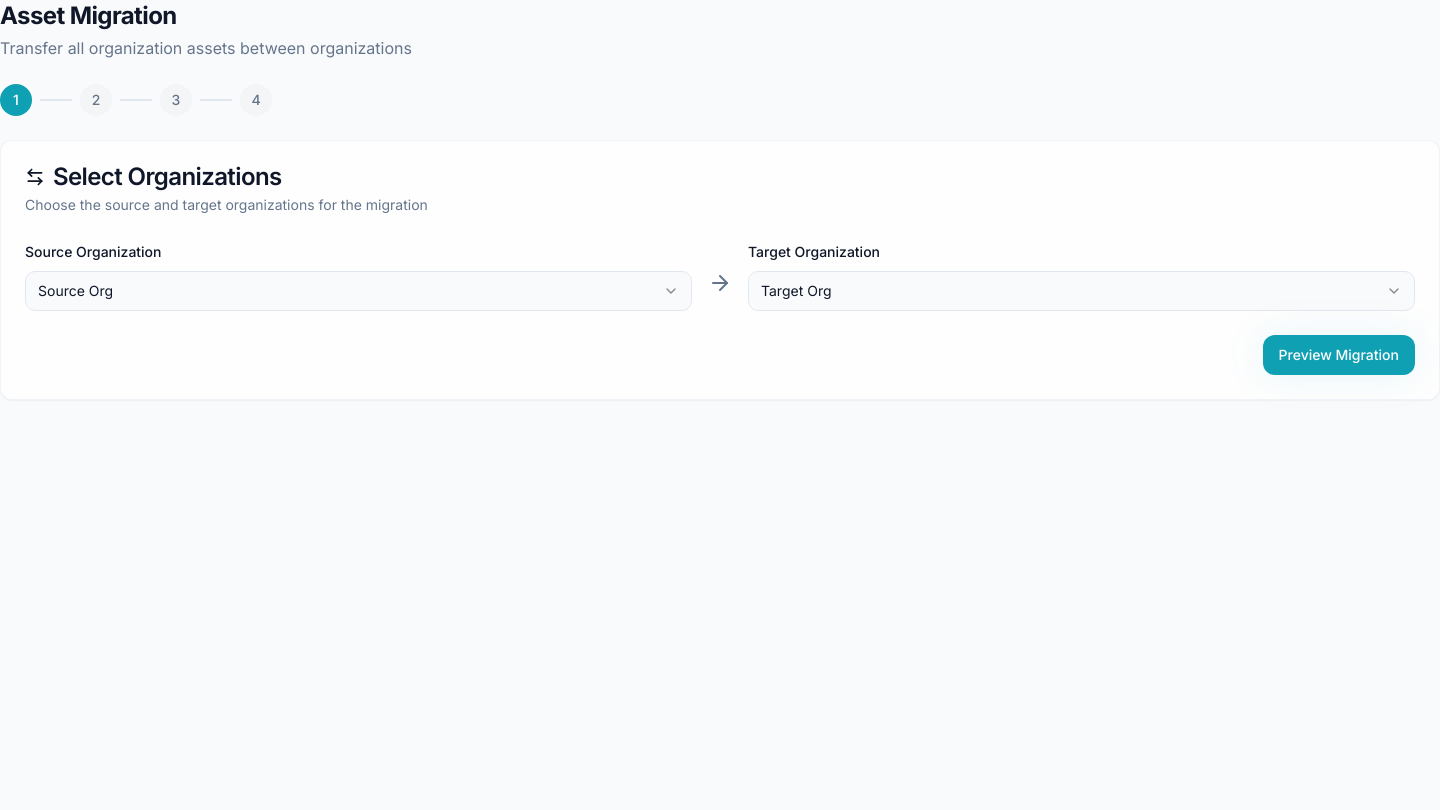
AssetMigration › blocks migration when dependent categories are selected without their parent records
Check: the heading "Asset Migration" is shown, box left=0, top=1, right=177, bottom=30
Click the button "Preview Migration" at [1339, 355], box left=1262, top=335, right=1415, bottom=375
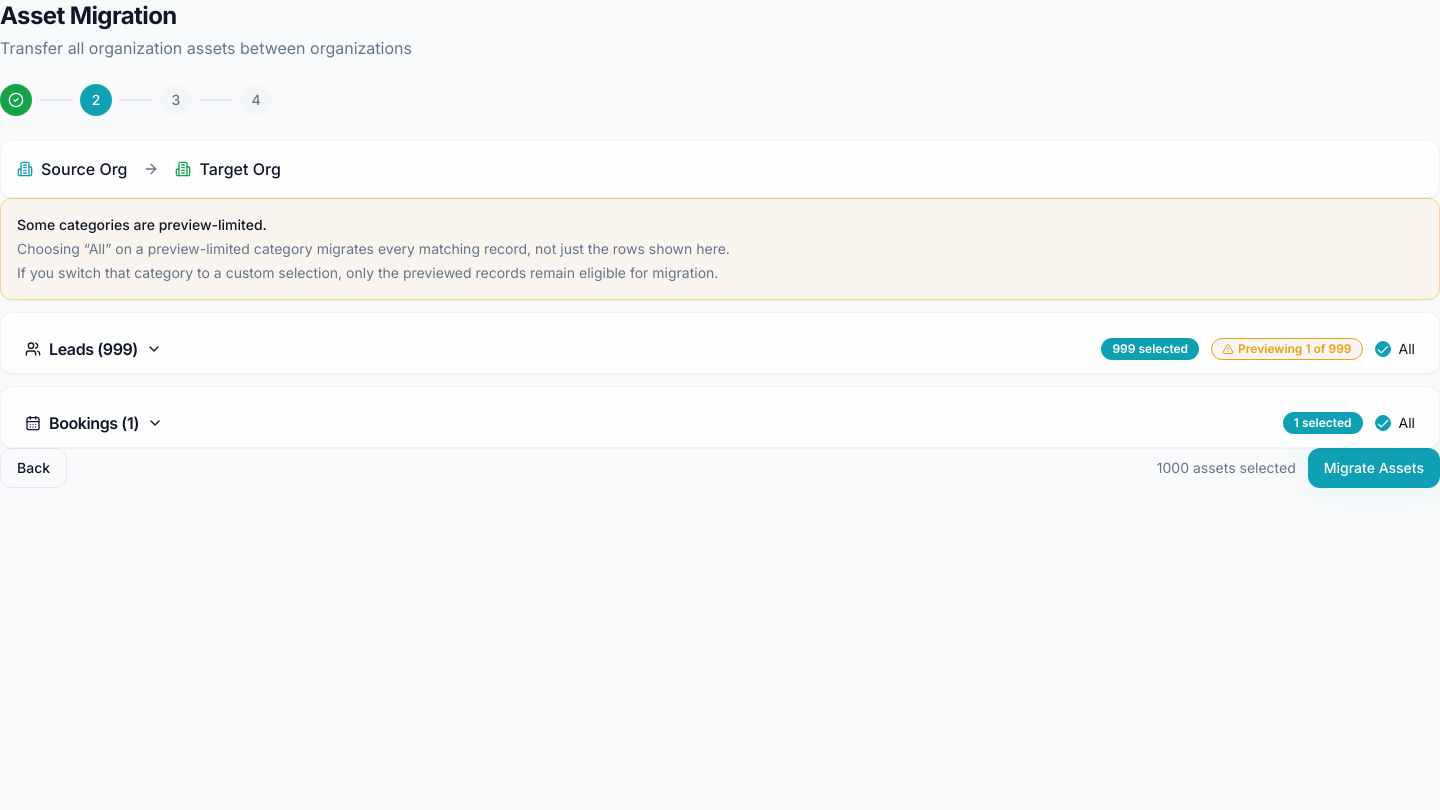
Check: the text "1000 assets selected" is shown, box left=1157, top=458, right=1296, bottom=478
Click the checkbox named "select all leads" at [1382, 349], box left=1374, top=341, right=1390, bottom=357
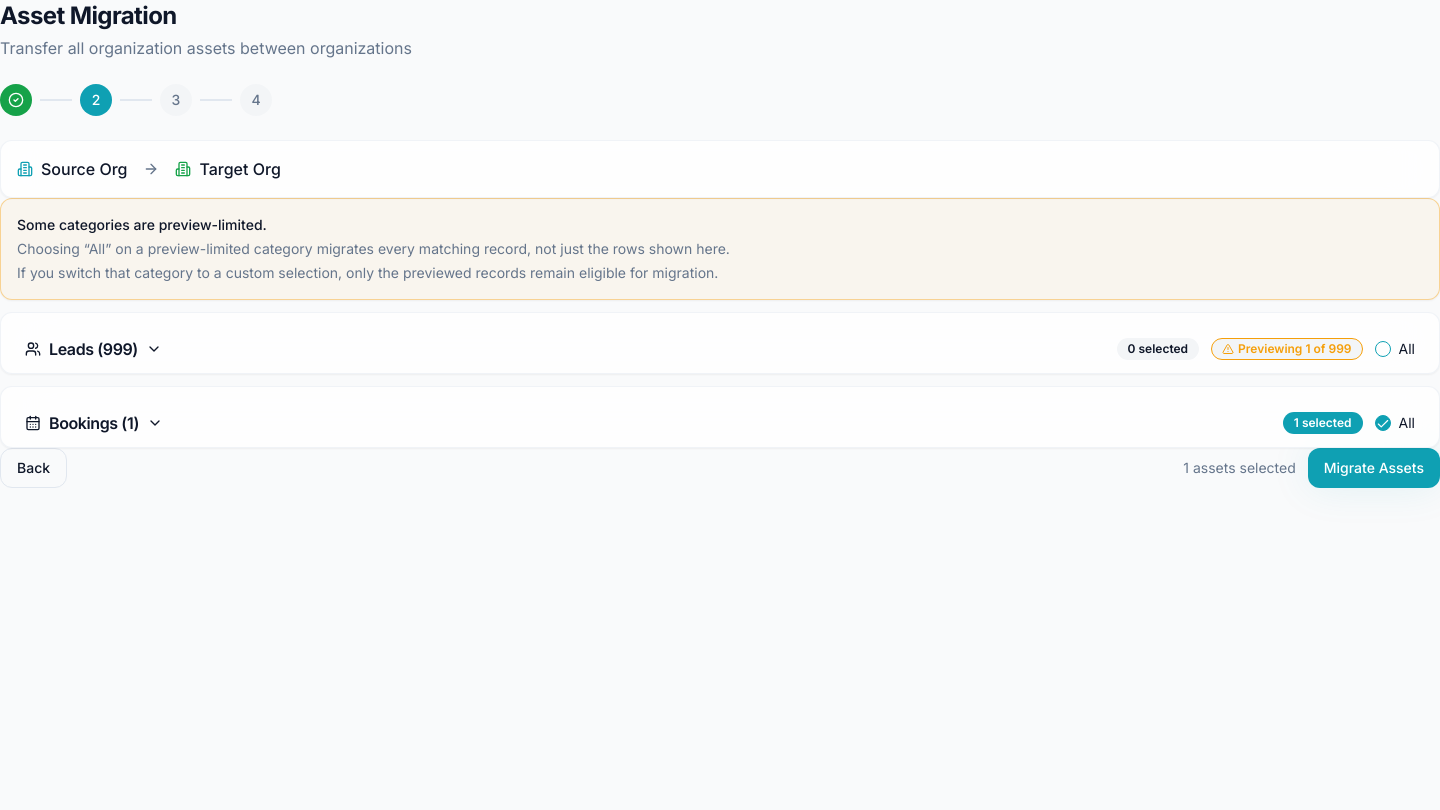
Click the button "Migrate Assets" at [1374, 468], box left=1308, top=448, right=1439, bottom=488
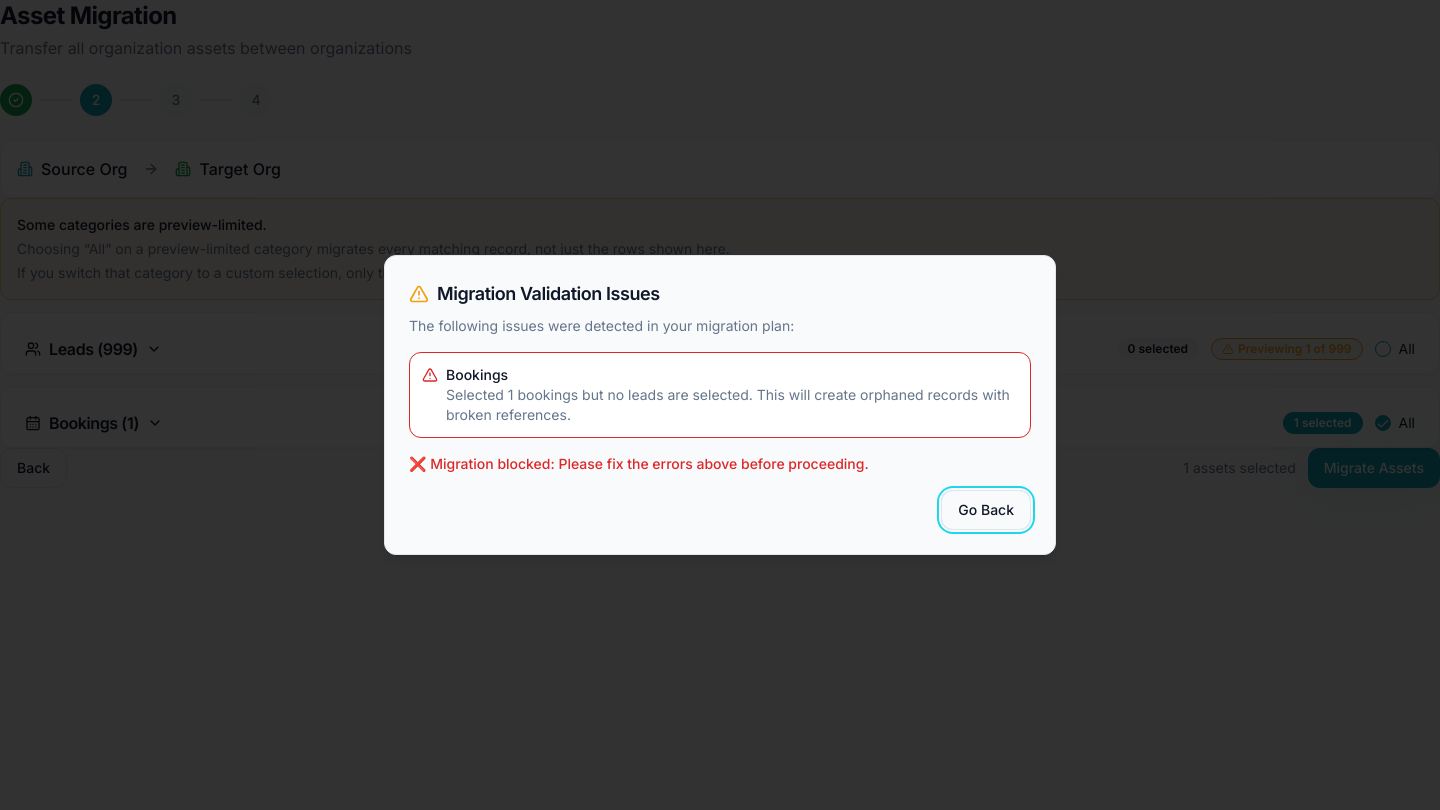
Check: the text "Migration blocked" is shown, box left=409, top=455, right=869, bottom=472
Check: the text "orphaned records with broken references" is shown, box left=446, top=386, right=1010, bottom=423
